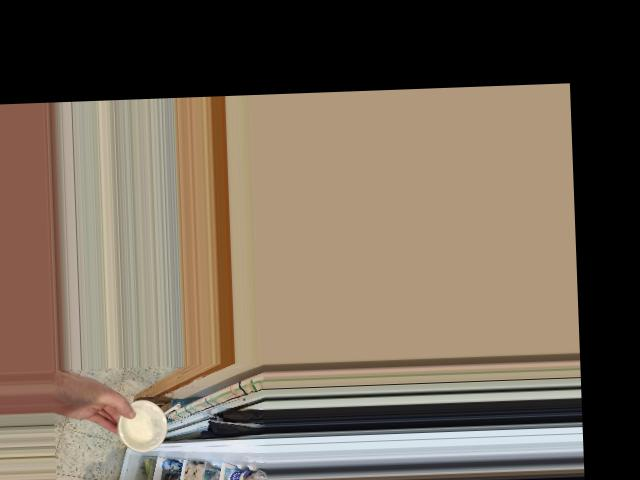cotage: (120, 401, 168, 451)
